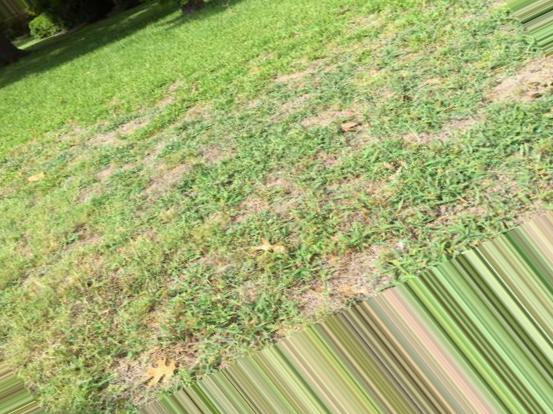patch: (326, 267, 378, 297), (248, 200, 292, 215), (513, 69, 541, 84)
